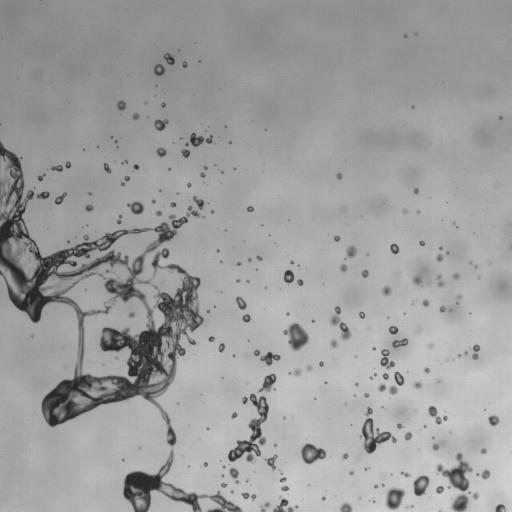droplet: (282, 322, 309, 351), (300, 443, 326, 464), (384, 487, 406, 510), (272, 494, 298, 511), (426, 405, 447, 425), (257, 373, 276, 393), (413, 474, 430, 496), (380, 349, 395, 369), (126, 201, 145, 215), (192, 195, 209, 210), (344, 244, 356, 260), (229, 467, 240, 484), (283, 269, 294, 285), (154, 119, 168, 131), (235, 296, 247, 310), (392, 337, 408, 347), (163, 52, 175, 65), (412, 275, 423, 288), (476, 469, 490, 479), (153, 64, 165, 75), (488, 414, 499, 426), (381, 285, 392, 296), (166, 146, 177, 157), (169, 146, 180, 157), (38, 162, 49, 173), (156, 198, 167, 209), (143, 203, 154, 214), (174, 206, 185, 217), (123, 211, 134, 222), (132, 214, 143, 225), (337, 239, 348, 250), (458, 264, 469, 275), (236, 266, 247, 277), (194, 286, 205, 297), (41, 303, 52, 314), (17, 310, 28, 321), (300, 320, 311, 331), (261, 364, 272, 375), (420, 373, 431, 384), (249, 382, 260, 393), (132, 393, 143, 404), (248, 407, 259, 418), (36, 415, 47, 426), (373, 419, 384, 430), (240, 428, 251, 439), (393, 428, 404, 439), (260, 445, 271, 456), (433, 452, 444, 463), (254, 455, 265, 466), (234, 457, 245, 468), (446, 458, 457, 469), (145, 465, 156, 476), (403, 483, 414, 494), (376, 491, 387, 502), (231, 494, 242, 505), (197, 497, 208, 508), (249, 499, 260, 510), (288, 368, 301, 377), (259, 501, 270, 511), (156, 147, 166, 157), (413, 379, 423, 389), (117, 100, 126, 111), (102, 162, 111, 173), (390, 243, 399, 254), (388, 325, 398, 334), (455, 293, 463, 304), (0, 167, 8, 178), (494, 504, 506, 511), (329, 339, 338, 348), (435, 485, 444, 494), (123, 106, 132, 115), (191, 175, 200, 184), (141, 198, 150, 207), (162, 206, 171, 215), (199, 206, 208, 215), (152, 216, 161, 225), (57, 241, 66, 250), (354, 249, 363, 258), (344, 257, 353, 266), (442, 273, 451, 282), (429, 301, 438, 310), (64, 304, 73, 313), (338, 313, 347, 322), (332, 326, 341, 335), (188, 330, 197, 339), (178, 337, 187, 346), (69, 354, 78, 363), (65, 371, 74, 380), (418, 372, 427, 381), (374, 375, 383, 384), (386, 377, 395, 386), (44, 383, 53, 392), (355, 386, 364, 395), (115, 399, 124, 408), (111, 400, 120, 409), (390, 427, 399, 436), (159, 431, 168, 440), (353, 464, 362, 473), (224, 474, 233, 483), (440, 476, 449, 485), (116, 480, 125, 489), (393, 480, 402, 489), (425, 484, 434, 493), (183, 485, 192, 494), (451, 487, 460, 496), (149, 488, 158, 497), (254, 496, 263, 505), (404, 431, 412, 441), (181, 149, 190, 157), (361, 269, 369, 278), (242, 313, 250, 322), (218, 342, 225, 352), (0, 155, 6, 166), (182, 505, 193, 511), (37, 173, 45, 181), (85, 204, 93, 212), (339, 264, 347, 272), (452, 272, 460, 280), (229, 411, 237, 419), (341, 453, 349, 461), (436, 253, 443, 262), (280, 485, 289, 492), (132, 164, 139, 172), (422, 299, 429, 307), (426, 342, 434, 349), (382, 372, 389, 380), (396, 422, 404, 429), (432, 442, 439, 450), (0, 203, 5, 214), (0, 282, 5, 293), (132, 113, 139, 120), (246, 205, 253, 212), (155, 210, 162, 217), (333, 235, 340, 242), (128, 311, 135, 318), (358, 311, 365, 318), (305, 364, 312, 371), (480, 447, 487, 454), (174, 58, 181, 65), (160, 59, 167, 66), (201, 131, 208, 138), (2, 142, 9, 149), (186, 143, 193, 150), (19, 159, 26, 166), (126, 162, 133, 169), (33, 187, 40, 194), (48, 193, 55, 200), (85, 197, 92, 204), (152, 203, 159, 210), (191, 203, 198, 210), (168, 206, 175, 213), (408, 207, 415, 214), (187, 214, 194, 221), (116, 223, 123, 230), (161, 240, 168, 247), (156, 244, 163, 251), (340, 249, 347, 256), (40, 250, 47, 257), (157, 257, 164, 264), (240, 257, 247, 264), (288, 264, 295, 271), (188, 269, 195, 276), (420, 276, 427, 283), (406, 277, 413, 284), (376, 284, 383, 291), (375, 287, 382, 294), (389, 288, 396, 295), (2, 292, 9, 299), (8, 302, 15, 309), (242, 307, 249, 314), (197, 308, 204, 315), (239, 308, 246, 315), (71, 317, 78, 324), (386, 319, 393, 326), (282, 322, 289, 329), (283, 333, 290, 340), (393, 333, 400, 340), (71, 337, 78, 344), (345, 337, 352, 344), (212, 339, 219, 346), (285, 343, 292, 350), (385, 343, 392, 350), (299, 344, 306, 351), (259, 349, 266, 356), (299, 364, 306, 371), (379, 365, 386, 372), (300, 368, 307, 375), (387, 368, 394, 375), (166, 384, 173, 391), (382, 388, 389, 395), (260, 389, 267, 396), (107, 401, 114, 408), (97, 403, 104, 410), (35, 405, 42, 412), (486, 409, 493, 416), (154, 410, 161, 417), (436, 410, 443, 417), (253, 412, 260, 419), (65, 418, 72, 425), (41, 420, 48, 427), (258, 422, 265, 429), (54, 423, 61, 430), (246, 428, 253, 435), (260, 430, 267, 437), (264, 439, 271, 446), (164, 443, 171, 450), (295, 453, 302, 460), (172, 455, 179, 462), (313, 458, 320, 465), (126, 466, 133, 473), (222, 467, 229, 474), (463, 471, 470, 478), (119, 472, 126, 479), (410, 473, 417, 480), (160, 475, 167, 482), (467, 484, 474, 491), (280, 491, 287, 498), (224, 493, 231, 500), (361, 494, 368, 501), (196, 497, 203, 504), (123, 499, 130, 506), (287, 499, 294, 506), (211, 501, 218, 508), (65, 161, 71, 169), (297, 278, 303, 286), (356, 452, 362, 460), (462, 506, 471, 511), (336, 172, 342, 179), (413, 187, 419, 194), (439, 305, 445, 312), (208, 335, 214, 342), (424, 366, 430, 373), (401, 208, 407, 214), (419, 240, 425, 246), (505, 505, 511, 511), (434, 378, 441, 383), (279, 477, 286, 482), (220, 482, 227, 487), (182, 61, 187, 67), (121, 159, 127, 164), (200, 172, 205, 178), (170, 202, 176, 207), (341, 206, 346, 212), (256, 255, 262, 260), (201, 462, 207, 467), (364, 466, 370, 471), (348, 470, 354, 475), (265, 507, 272, 511), (387, 507, 394, 511), (151, 198, 156, 203), (289, 260, 294, 265), (236, 278, 241, 283), (373, 484, 378, 489), (173, 56, 178, 61), (149, 64, 154, 69), (152, 73, 157, 78), (158, 74, 163, 79), (115, 96, 120, 101), (123, 97, 128, 102), (112, 103, 117, 108), (115, 108, 120, 113), (135, 108, 140, 113), (120, 109, 125, 114), (138, 113, 143, 118), (159, 116, 164, 121), (134, 118, 139, 123), (149, 119, 154, 124), (161, 128, 166, 133), (185, 137, 190, 142), (201, 140, 206, 145), (154, 143, 159, 148), (162, 144, 167, 149), (15, 152, 20, 157), (153, 152, 158, 157), (160, 155, 165, 160), (52, 161, 57, 166), (108, 164, 113, 169), (199, 167, 204, 172), (101, 169, 106, 174), (203, 169, 208, 174), (124, 171, 129, 176), (341, 173, 346, 178), (332, 175, 337, 180), (408, 188, 413, 193), (418, 188, 423, 193), (31, 194, 36, 199), (196, 194, 201, 199), (62, 196, 67, 201), (38, 197, 43, 202), (202, 197, 207, 202), (128, 198, 133, 203), (138, 198, 143, 203), (82, 201, 87, 206), (165, 201, 170, 206), (202, 203, 207, 208), (125, 206, 130, 211), (142, 207, 147, 212), (89, 209, 94, 214), (84, 210, 89, 215), (137, 212, 142, 217), (20, 213, 25, 218), (181, 222, 186, 227), (136, 223, 141, 228), (125, 225, 130, 230), (175, 227, 180, 232), (108, 228, 113, 233), (99, 231, 104, 236), (28, 232, 33, 237), (172, 234, 177, 239), (87, 237, 92, 242), (329, 237, 334, 242), (78, 238, 83, 243), (332, 240, 337, 245), (351, 241, 356, 246), (70, 242, 75, 247), (435, 249, 440, 254), (440, 249, 445, 254), (387, 250, 392, 255), (258, 251, 263, 256), (431, 255, 436, 260), (251, 256, 256, 261), (293, 259, 298, 264), (438, 260, 443, 265), (180, 264, 185, 269), (335, 264, 340, 269), (468, 264, 473, 269), (358, 266, 363, 271), (451, 268, 456, 273), (343, 270, 348, 275), (279, 271, 284, 276), (367, 272, 372, 277), (357, 273, 362, 278), (459, 273, 464, 278), (363, 276, 368, 281), (440, 276, 445, 281), (292, 277, 297, 282), (199, 278, 204, 283), (240, 278, 245, 283), (433, 278, 438, 283), (456, 278, 461, 283), (281, 280, 286, 285), (299, 284, 304, 289), (438, 286, 443, 291), (3, 290, 8, 295), (453, 290, 458, 295), (235, 291, 240, 296), (423, 294, 428, 299), (243, 297, 248, 302), (427, 298, 432, 303), (458, 298, 463, 303), (417, 299, 422, 304), (233, 303, 238, 308), (427, 303, 432, 308), (451, 303, 456, 308), (208, 305, 213, 310), (421, 305, 426, 310), (444, 305, 449, 310), (339, 306, 344, 311), (330, 309, 335, 314), (347, 325, 352, 330), (195, 326, 200, 331), (337, 328, 342, 333), (326, 343, 331, 348), (433, 343, 438, 348), (398, 345, 403, 350), (249, 347, 254, 352), (458, 349, 463, 354), (469, 349, 474, 354), (183, 352, 188, 357), (255, 354, 260, 359), (460, 354, 465, 359), (473, 358, 478, 363), (261, 360, 266, 365), (425, 362, 430, 367), (428, 365, 433, 370), (419, 366, 424, 371), (289, 373, 294, 378), (259, 377, 264, 382), (403, 377, 408, 382), (414, 377, 419, 382), (257, 382, 262, 387), (271, 382, 276, 387), (421, 383, 426, 388), (413, 387, 418, 392), (255, 393, 260, 398), (391, 393, 396, 398), (153, 396, 158, 401), (246, 399, 251, 404), (265, 399, 270, 404), (431, 401, 436, 406), (161, 404, 166, 409), (252, 405, 257, 410), (423, 407, 428, 412), (266, 410, 271, 415), (167, 413, 172, 418), (368, 413, 373, 418), (361, 415, 366, 420), (430, 416, 435, 421), (245, 418, 250, 423), (395, 418, 400, 423), (161, 419, 166, 424), (484, 419, 489, 424), (372, 423, 377, 428), (488, 424, 493, 429), (492, 424, 497, 429), (163, 426, 168, 431), (172, 427, 177, 432), (378, 427, 383, 432), (357, 429, 362, 434), (410, 430, 415, 435), (174, 432, 179, 437), (245, 436, 250, 441), (409, 436, 414, 441), (386, 438, 391, 443), (308, 439, 313, 444), (430, 439, 435, 444), (301, 440, 306, 445), (173, 441, 178, 446), (232, 442, 237, 447), (314, 443, 319, 448), (482, 443, 487, 448), (427, 444, 432, 449), (437, 446, 442, 451), (296, 448, 301, 453), (361, 448, 366, 453), (475, 448, 480, 453), (339, 449, 344, 454), (433, 449, 438, 454), (485, 449, 490, 454), (223, 451, 228, 456), (479, 452, 484, 457), (324, 453, 329, 458), (337, 453, 342, 458), (461, 456, 466, 461), (224, 457, 229, 462), (298, 457, 303, 462), (160, 459, 165, 464), (273, 460, 278, 465), (304, 462, 309, 467), (467, 462, 472, 467), (169, 464, 174, 469), (225, 465, 230, 470), (348, 465, 353, 470), (402, 467, 407, 472), (478, 468, 483, 473), (489, 470, 494, 475), (424, 471, 429, 476), (236, 474, 241, 479), (486, 476, 491, 481), (220, 477, 225, 482), (280, 481, 285, 486), (174, 483, 179, 488), (242, 487, 247, 492), (195, 490, 200, 495), (211, 490, 216, 495), (440, 490, 445, 495), (435, 492, 440, 497), (419, 493, 424, 498), (414, 494, 419, 499), (477, 495, 482, 500), (246, 496, 251, 501), (168, 498, 173, 503), (275, 499, 280, 504), (337, 501, 342, 506), (0, 218, 3, 225), (161, 102, 165, 107), (498, 115, 503, 119), (203, 165, 207, 170), (187, 182, 191, 187), (210, 209, 214, 214), (438, 246, 443, 250), (247, 257, 251, 262), (468, 260, 472, 265), (427, 280, 431, 285), (411, 300, 415, 305), (310, 318, 315, 322), (450, 357, 455, 361), (319, 361, 323, 366), (354, 382, 359, 386), (364, 393, 369, 397), (282, 415, 286, 420), (357, 495, 361, 500), (321, 496, 326, 500), (403, 34, 407, 38), (411, 105, 415, 109), (228, 140, 232, 144), (416, 210, 420, 214), (66, 239, 70, 243), (216, 248, 220, 252), (365, 252, 369, 256), (219, 259, 223, 263), (474, 264, 478, 268), (206, 309, 210, 313), (372, 346, 376, 350), (444, 358, 448, 362), (101, 362, 105, 366), (381, 405, 385, 409), (273, 443, 277, 447), (245, 478, 249, 482), (381, 483, 385, 487), (230, 489, 234, 493), (87, 192, 92, 195), (286, 311, 289, 316), (129, 508, 134, 511), (146, 508, 151, 511), (292, 508, 297, 511), (350, 508, 355, 511), (406, 508, 411, 511), (490, 508, 495, 511), (110, 135, 113, 139), (114, 139, 117, 143), (167, 167, 171, 170), (445, 251, 449, 254), (477, 275, 480, 279), (246, 279, 249, 283), (449, 308, 452, 312), (30, 334, 34, 337), (245, 381, 249, 384), (423, 424, 426, 428), (205, 427, 209, 430), (222, 464, 225, 468), (179, 137, 184, 139), (0, 274, 2, 279), (414, 32, 417, 35), (198, 59, 201, 62), (144, 101, 147, 104), (264, 128, 267, 131), (96, 145, 99, 148), (82, 148, 85, 151), (233, 167, 236, 170), (220, 170, 223, 173), (158, 189, 161, 192), (176, 192, 179, 195), (297, 264, 300, 267), (264, 286, 267, 289), (213, 305, 216, 308), (403, 312, 406, 315), (232, 354, 235, 357), (354, 355, 357, 358), (324, 381, 327, 384), (176, 402, 179, 405), (344, 402, 347, 405), (483, 408, 486, 411), (449, 431, 452, 434), (138, 446, 141, 449), (121, 458, 124, 461), (221, 474, 224, 477), (406, 33, 409, 36), (400, 34, 403, 37), (163, 50, 166, 53), (197, 56, 200, 59), (200, 59, 203, 62), (171, 63, 174, 66), (186, 63, 189, 66), (181, 66, 184, 69), (159, 100, 162, 103), (164, 104, 167, 107), (159, 106, 162, 109), (501, 113, 504, 116), (495, 116, 498, 119), (167, 117, 170, 120), (498, 119, 501, 122), (0, 120, 3, 123), (223, 121, 226, 124), (0, 123, 3, 126), (226, 124, 229, 127), (224, 127, 227, 130), (110, 132, 113, 135), (107, 135, 110, 138), (112, 136, 115, 139), (211, 137, 214, 140), (225, 139, 228, 142), (231, 140, 234, 143), (188, 141, 191, 144), (115, 142, 118, 145), (229, 143, 232, 146), (93, 144, 96, 147), (98, 144, 101, 147), (84, 146, 87, 149), (79, 147, 82, 150), (95, 147, 98, 150), (116, 147, 119, 150), (82, 150, 85, 153), (187, 155, 190, 158), (121, 158, 124, 161), (126, 158, 129, 161), (123, 162, 126, 165), (136, 162, 139, 165), (204, 163, 207, 166), (168, 164, 171, 167), (232, 164, 235, 167), (62, 165, 65, 168), (207, 166, 210, 169), (67, 167, 70, 170), (164, 167, 167, 170), (170, 167, 173, 170), (220, 167, 223, 170), (48, 168, 51, 171), (230, 168, 233, 171), (6, 169, 9, 172), (234, 169, 237, 172), (217, 170, 220, 173), (223, 170, 226, 173), (339, 170, 342, 173), (39, 172, 42, 175), (220, 173, 223, 176), (34, 175, 37, 178), (42, 176, 45, 179), (199, 176, 202, 179), (339, 178, 342, 181), (36, 179, 39, 182), (122, 179, 125, 182), (117, 182, 120, 185), (183, 183, 186, 186), (190, 183, 193, 186), (121, 185, 124, 188), (187, 186, 190, 189), (88, 188, 91, 191), (155, 188, 158, 191), (175, 188, 178, 191), (91, 191, 94, 194), (159, 191, 162, 194), (172, 191, 175, 194), (59, 192, 62, 195), (178, 193, 181, 196), (87, 194, 90, 197), (150, 196, 153, 199), (44, 197, 47, 200), (155, 199, 158, 202), (172, 199, 175, 202), (447, 200, 450, 203), (123, 202, 126, 205), (175, 202, 178, 205), (55, 203, 58, 206), (246, 203, 249, 206), (92, 205, 95, 208), (253, 207, 256, 210), (418, 207, 421, 210), (213, 209, 216, 212), (248, 211, 251, 214), (210, 213, 213, 216), (415, 213, 418, 216), (116, 216, 119, 219), (284, 218, 287, 221), (85, 220, 88, 223), (260, 220, 263, 223), (449, 220, 452, 223), (455, 222, 458, 225), (263, 223, 266, 226), (87, 224, 90, 227), (145, 224, 148, 227), (83, 225, 86, 228), (452, 225, 455, 228), (457, 227, 460, 230), (224, 231, 227, 234), (265, 232, 268, 235), (270, 232, 273, 235), (335, 232, 338, 235), (339, 235, 342, 238), (417, 238, 420, 241), (338, 239, 341, 242), (423, 239, 426, 242), (391, 240, 394, 243), (35, 241, 38, 244), (416, 242, 419, 245), (396, 243, 399, 246), (423, 243, 426, 246), (437, 243, 440, 246), (419, 245, 422, 248), (217, 246, 220, 249), (387, 246, 390, 249), (398, 247, 401, 250), (213, 249, 216, 252), (217, 251, 220, 254), (448, 251, 451, 254), (395, 252, 398, 255), (247, 254, 250, 257), (366, 255, 369, 258), (220, 257, 223, 260), (290, 257, 293, 260), (261, 258, 264, 261), (216, 260, 219, 263), (234, 260, 237, 263), (472, 261, 475, 264), (477, 264, 480, 267), (237, 265, 240, 268), (252, 267, 255, 270), (475, 267, 478, 270), (367, 269, 370, 272), (255, 270, 258, 273), (235, 276, 238, 279), (248, 277, 251, 280), (302, 279, 305, 282), (237, 281, 240, 284), (248, 281, 251, 284), (262, 283, 265, 286), (266, 284, 269, 287), (261, 287, 264, 290), (266, 287, 269, 290), (408, 300, 411, 303), (215, 304, 218, 307), (436, 307, 439, 310), (360, 308, 363, 311), (402, 308, 405, 311), (468, 308, 471, 311), (283, 310, 286, 313), (288, 310, 291, 313), (363, 310, 366, 313), (440, 311, 443, 314), (471, 311, 474, 314), (405, 312, 408, 315), (385, 313, 388, 316), (400, 313, 403, 316), (249, 314, 252, 317), (364, 314, 367, 317), (468, 314, 471, 317), (239, 316, 242, 319), (312, 316, 315, 319), (357, 316, 360, 319), (249, 318, 252, 321), (202, 320, 205, 323), (243, 321, 246, 324), (395, 324, 398, 327), (397, 328, 400, 331), (280, 331, 283, 334), (387, 331, 390, 334), (208, 333, 211, 336), (247, 336, 250, 339), (406, 336, 409, 339), (194, 338, 197, 341), (205, 338, 208, 341), (244, 338, 247, 341), (407, 340, 410, 343), (477, 342, 480, 345), (470, 344, 473, 347), (368, 346, 371, 349), (380, 346, 383, 349), (223, 347, 226, 350), (371, 349, 374, 352), (218, 351, 221, 354), (355, 352, 358, 355), (229, 353, 232, 356), (351, 353, 354, 356), (234, 354, 237, 357), (454, 354, 457, 357), (279, 356, 282, 359), (448, 356, 451, 359), (353, 357, 356, 360), (322, 360, 325, 363), (393, 360, 396, 363), (377, 361, 380, 364), (316, 363, 319, 366), (322, 363, 325, 366), (423, 371, 426, 374), (370, 373, 373, 376), (401, 373, 404, 376), (223, 376, 226, 379), (275, 376, 278, 379), (322, 378, 325, 381), (367, 378, 370, 381), (356, 379, 359, 382), (326, 380, 329, 383), (351, 381, 354, 384), (324, 383, 327, 386), (353, 385, 356, 388), (364, 389, 367, 392), (351, 391, 354, 394), (368, 392, 371, 395), (315, 395, 318, 398), (352, 396, 355, 399), (363, 396, 366, 399), (313, 399, 316, 402), (239, 400, 242, 403), (383, 404, 386, 407), (369, 405, 372, 408), (483, 405, 486, 408), (480, 408, 483, 411), (229, 412, 232, 415), (236, 412, 239, 415), (279, 415, 282, 418), (233, 416, 236, 419), (285, 416, 288, 419), (446, 418, 449, 421), (350, 420, 353, 423), (435, 423, 438, 426), (204, 424, 207, 427), (207, 424, 210, 427), (347, 424, 350, 427), (420, 425, 423, 428), (205, 429, 208, 432), (432, 433, 435, 436), (428, 435, 431, 438), (393, 442, 396, 445), (276, 443, 279, 446), (343, 450, 346, 453), (172, 451, 175, 454), (276, 453, 279, 456), (347, 453, 350, 456), (269, 454, 272, 457), (120, 455, 123, 458), (118, 458, 121, 461), (124, 458, 127, 461), (344, 458, 347, 461), (264, 460, 267, 463), (187, 461, 190, 464), (200, 462, 203, 465), (207, 462, 210, 465), (219, 464, 222, 467), (363, 464, 366, 467), (184, 465, 187, 468), (189, 465, 192, 468), (268, 465, 271, 468), (274, 467, 277, 470), (361, 467, 364, 470), (366, 468, 369, 471), (388, 469, 391, 472), (353, 470, 356, 473), (386, 473, 389, 476), (280, 474, 283, 477), (350, 474, 353, 477), (401, 474, 404, 477), (247, 480, 250, 483), (381, 480, 384, 483), (370, 484, 373, 487), (377, 484, 380, 487), (319, 494, 322, 497), (240, 495, 243, 498), (254, 497, 257, 500), (369, 497, 372, 500), (322, 499, 325, 502), (369, 500, 372, 503), (297, 503, 300, 506), (257, 507, 260, 510), (435, 508, 438, 511), (154, 94, 156, 97), (224, 125, 227, 127), (116, 146, 119, 148), (213, 164, 216, 166), (85, 224, 88, 226), (224, 229, 227, 231), (255, 268, 258, 270), (84, 288, 86, 291), (220, 290, 222, 293), (468, 312, 471, 314), (387, 316, 389, 319), (406, 371, 409, 373), (353, 394, 356, 396), (313, 397, 316, 399), (350, 423, 352, 426), (432, 436, 434, 439), (187, 465, 190, 467), (390, 473, 392, 476), (307, 484, 310, 486), (178, 49, 180, 51), (155, 84, 157, 86), (204, 129, 206, 131), (261, 224, 263, 226), (81, 226, 83, 228), (268, 234, 270, 236), (243, 240, 245, 242), (247, 339, 249, 341), (419, 428, 421, 430), (219, 460, 221, 462), (446, 462, 448, 464), (253, 470, 255, 472), (172, 142, 174, 143), (33, 187, 35, 188), (322, 283, 324, 284), (353, 328, 355, 329), (221, 377, 223, 378), (188, 424, 190, 425)
ligament: (328, 306, 351, 340), (253, 349, 281, 365), (185, 132, 216, 146), (54, 192, 67, 204), (336, 502, 353, 511), (240, 492, 256, 501), (472, 344, 480, 359), (436, 273, 444, 287), (120, 176, 130, 186), (457, 350, 468, 358), (50, 165, 63, 171), (400, 471, 411, 478), (369, 372, 377, 380), (116, 214, 122, 224), (404, 504, 414, 509), (452, 221, 458, 228), (233, 261, 241, 266), (279, 469, 282, 475), (438, 509, 445, 511), (510, 244, 511, 249), (232, 246, 234, 248)
